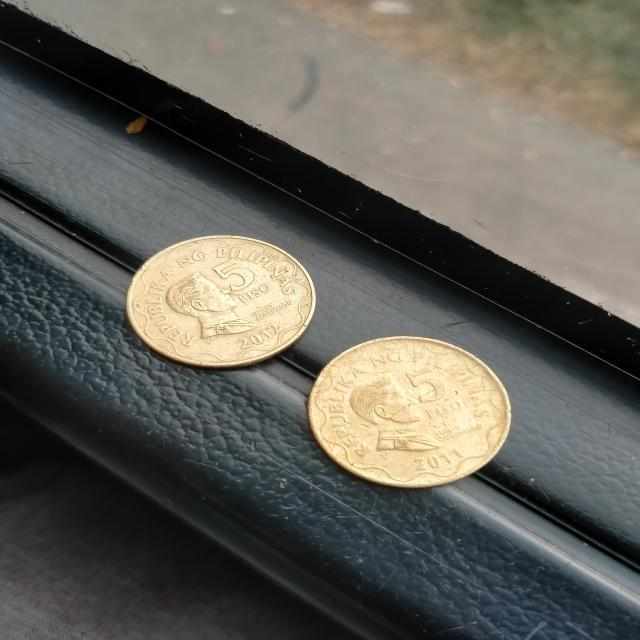5_Old_Front: (200, 255, 278, 311), (399, 365, 466, 421)
